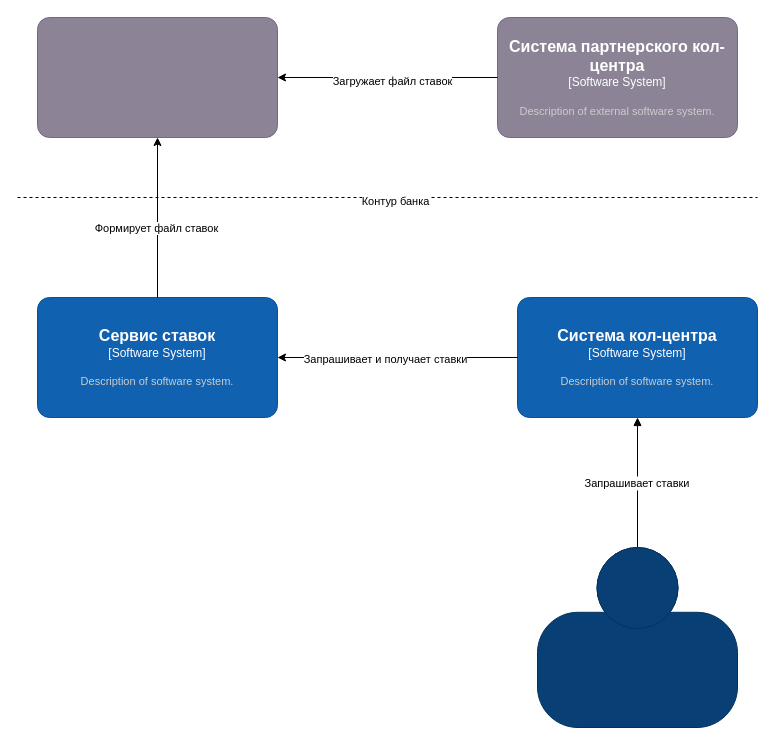
The diagram is 776 pixels wide and 745 high, and some of its shapes have lost their labels. Here are the shapes that lost their labels. From the top down, the box of each, then its label:
(36, 16, 278, 138): Внешнее хранилище [Software System] Description of external software system.
(536, 546, 738, 728): Менеджер кол-центра [Person] Description of person.
